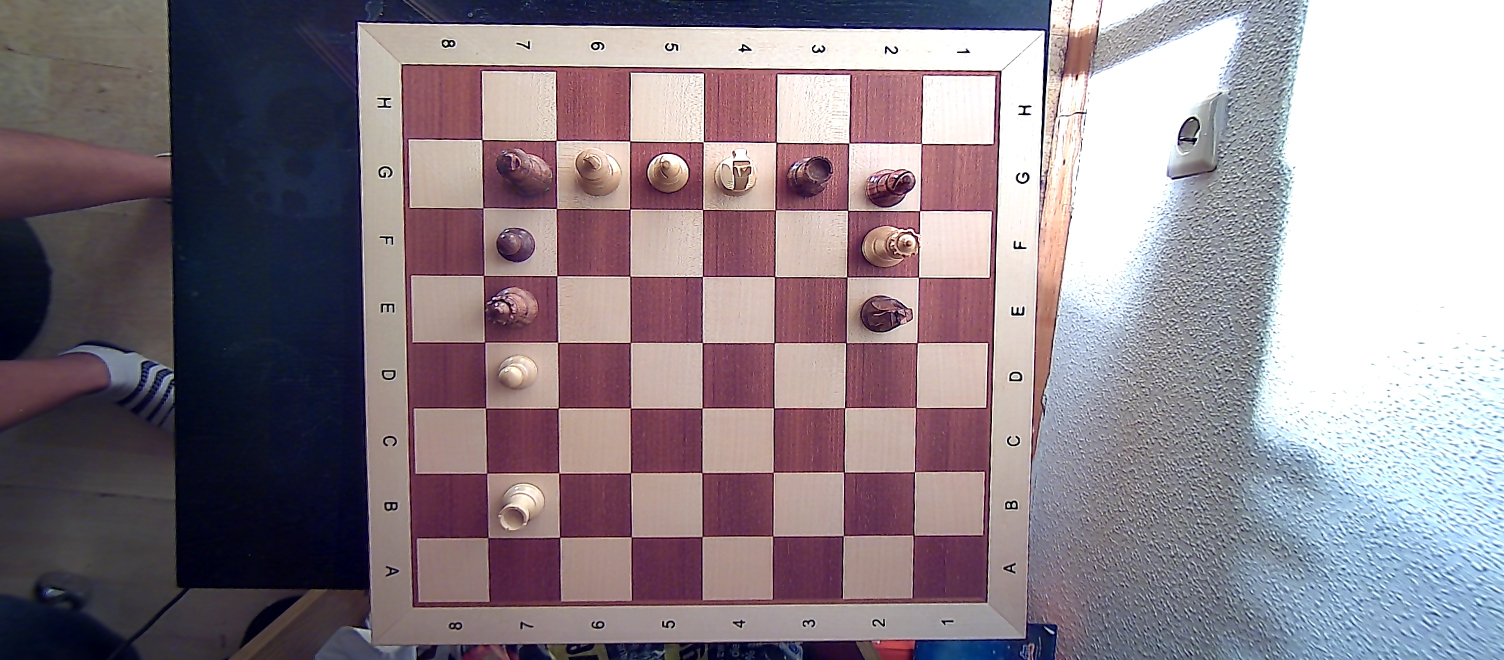black-bishop: (861, 162, 917, 208)
black-king: (491, 143, 555, 200)
black-knight: (857, 291, 916, 339)
black-pawn: (488, 224, 548, 270)
black-queen: (485, 284, 540, 330)
black-rook: (783, 153, 837, 201)
white-bishop: (642, 150, 695, 197)
white-king: (574, 143, 623, 199)
white-knight: (707, 146, 761, 200)
white-pawn: (492, 350, 539, 395)
white-queen: (858, 223, 923, 269)
white-rook: (493, 478, 549, 533)
